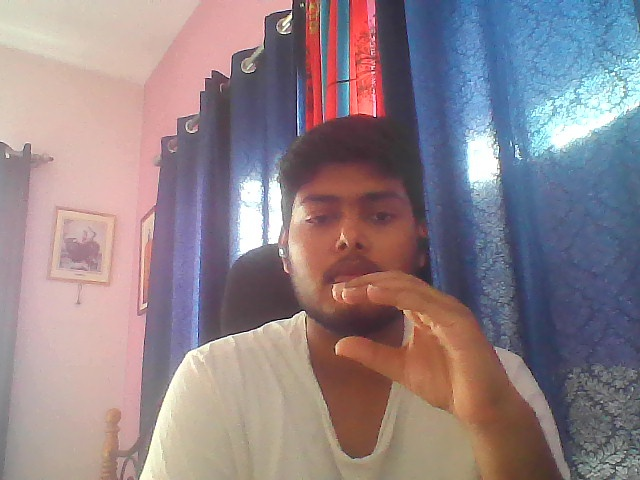No: (324, 267, 535, 412)
